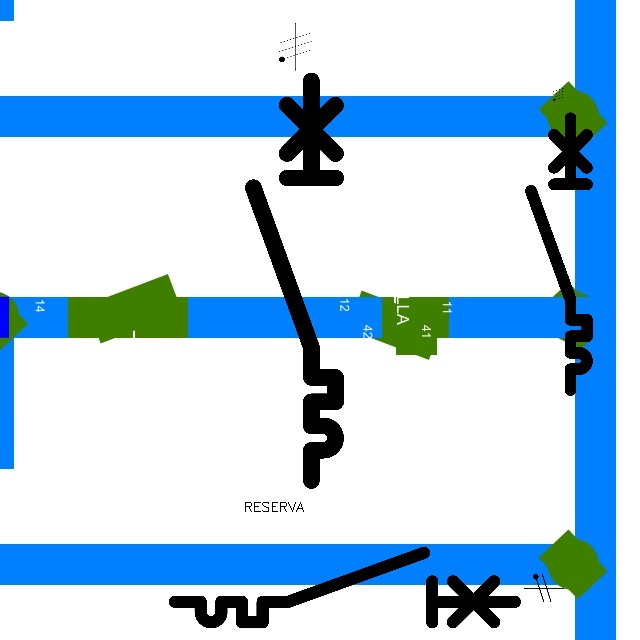interruptor_termomagnetico: (243, 70, 346, 491), (166, 544, 523, 631), (524, 111, 594, 397)
